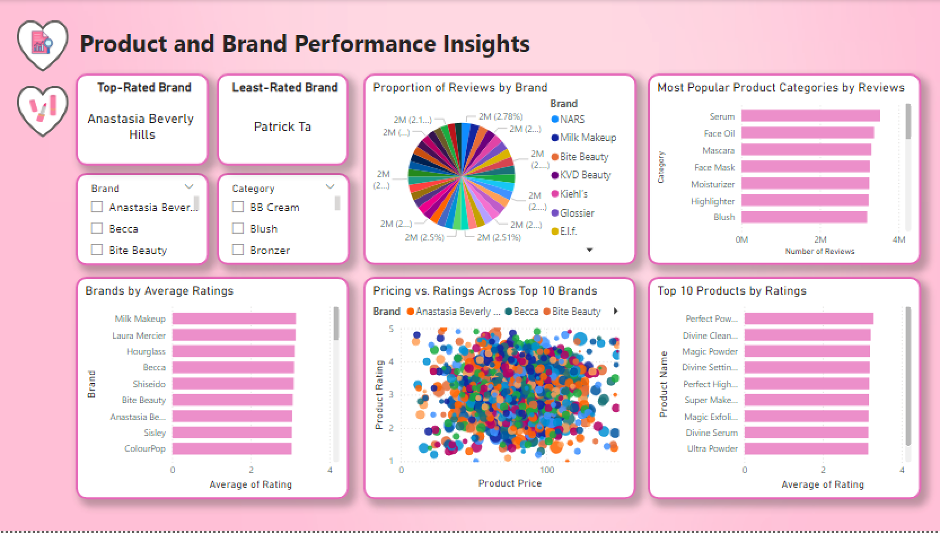

The page's visual inventory and layout, read from the dashboard file:
{"tool":"powerbi","page":{"name":"Page 2","canvas":[1280,720],"ordinal":1},"visuals":[{"type":"clusteredBarChart","title":"Most Popular Product Categories by Reviews","fields":{"Category":["most_used_beauty_cosmetics_products_extended.Category"],"Y":["most_used_beauty_cosmetics_products_extended.Number_of_Reviews"]},"box":[878.9,99.5,370.5,260.3],"z":0},{"type":"clusteredBarChart","title":"Brands by Average Ratings","fields":{"Category":["most_used_beauty_cosmetics_products_extended.Brand"],"Y":["most_used_beauty_cosmetics_products_extended.Rating"]},"box":[102.6,375.1,370.5,301.6],"z":1000},{"type":"scatterChart","title":"Pricing vs. Ratings Across Top 10 Brands","fields":{"X":["most_used_beauty_cosmetics_products_extended.Price_USD"],"Y":["most_used_beauty_cosmetics_products_extended.Rating"],"Size":["most_used_beauty_cosmetics_products_extended.Number_of_Reviews"],"Series":["most_used_beauty_cosmetics_products_extended.Brand"],"Category":["most_used_beauty_cosmetics_products_extended.Product_Name"]},"box":[493.3,375,370,301.7],"z":2000},{"type":"clusteredBarChart","title":"Top 10 Products by Ratings","fields":{"Category":["most_used_beauty_cosmetics_products_extended.Product_Name"],"Y":["most_used_beauty_cosmetics_products_extended.Rating"]},"box":[878.9,375.1,370.5,301.6],"z":3000},{"type":"pieChart","title":"Proportion of Reviews by Brand","fields":{"Category":["most_used_beauty_cosmetics_products_extended.Brand"],"Y":["most_used_beauty_cosmetics_products_extended.Number_of_Reviews"]},"box":[493,99.5,370.5,260.3],"z":4000},{"type":"actionButton","box":[23,116,70,70],"z":5000},{"type":"actionButton","box":[23,28,70,70],"z":6000},{"type":"textbox","box":[103,31,666,62],"z":7000},{"type":"slicer","fields":{"Values":["most_used_beauty_cosmetics_products_extended.Brand"]},"box":[102.6,234.3,180.7,125.6],"z":8000},{"type":"slicer","fields":{"Values":["most_used_beauty_cosmetics_products_extended.Category"]},"box":[294,234.3,180.7,125],"z":9000},{"type":"card","title":"Top-Rated Brand","fields":{"Values":["beauty_products.TopRatedBrandName"]},"box":[102.6,99.5,180.7,125],"z":10000},{"type":"card","title":"Least-Rated Brand","fields":{"Values":["beauty_products.LeastRatedBrandName"]},"box":[294,99.5,179.1,125],"z":11000}]}

Visuals, with their boxes in screenshot pixels (x1, y1, x2, y2), scaled from the page's 1280x720 canvas onto the 941x533 screenshot:
"Most Popular Product Categories by Reviews" clusteredBarChart: [646, 74, 919, 266]
"Brands by Average Ratings" clusteredBarChart: [75, 278, 348, 501]
"Pricing vs. Ratings Across Top 10 Brands" scatterChart: [363, 278, 635, 501]
"Top 10 Products by Ratings" clusteredBarChart: [646, 278, 919, 501]
"Proportion of Reviews by Brand" pieChart: [362, 74, 635, 266]
actionButton: [17, 86, 68, 138]
actionButton: [17, 21, 68, 73]
textbox: [76, 23, 565, 69]
slicer - most_used_beauty_cosmetics_products_extended.Brand: [75, 173, 208, 266]
slicer - most_used_beauty_cosmetics_products_extended.Category: [216, 173, 349, 266]
"Top-Rated Brand" card: [75, 74, 208, 166]
"Least-Rated Brand" card: [216, 74, 348, 166]
